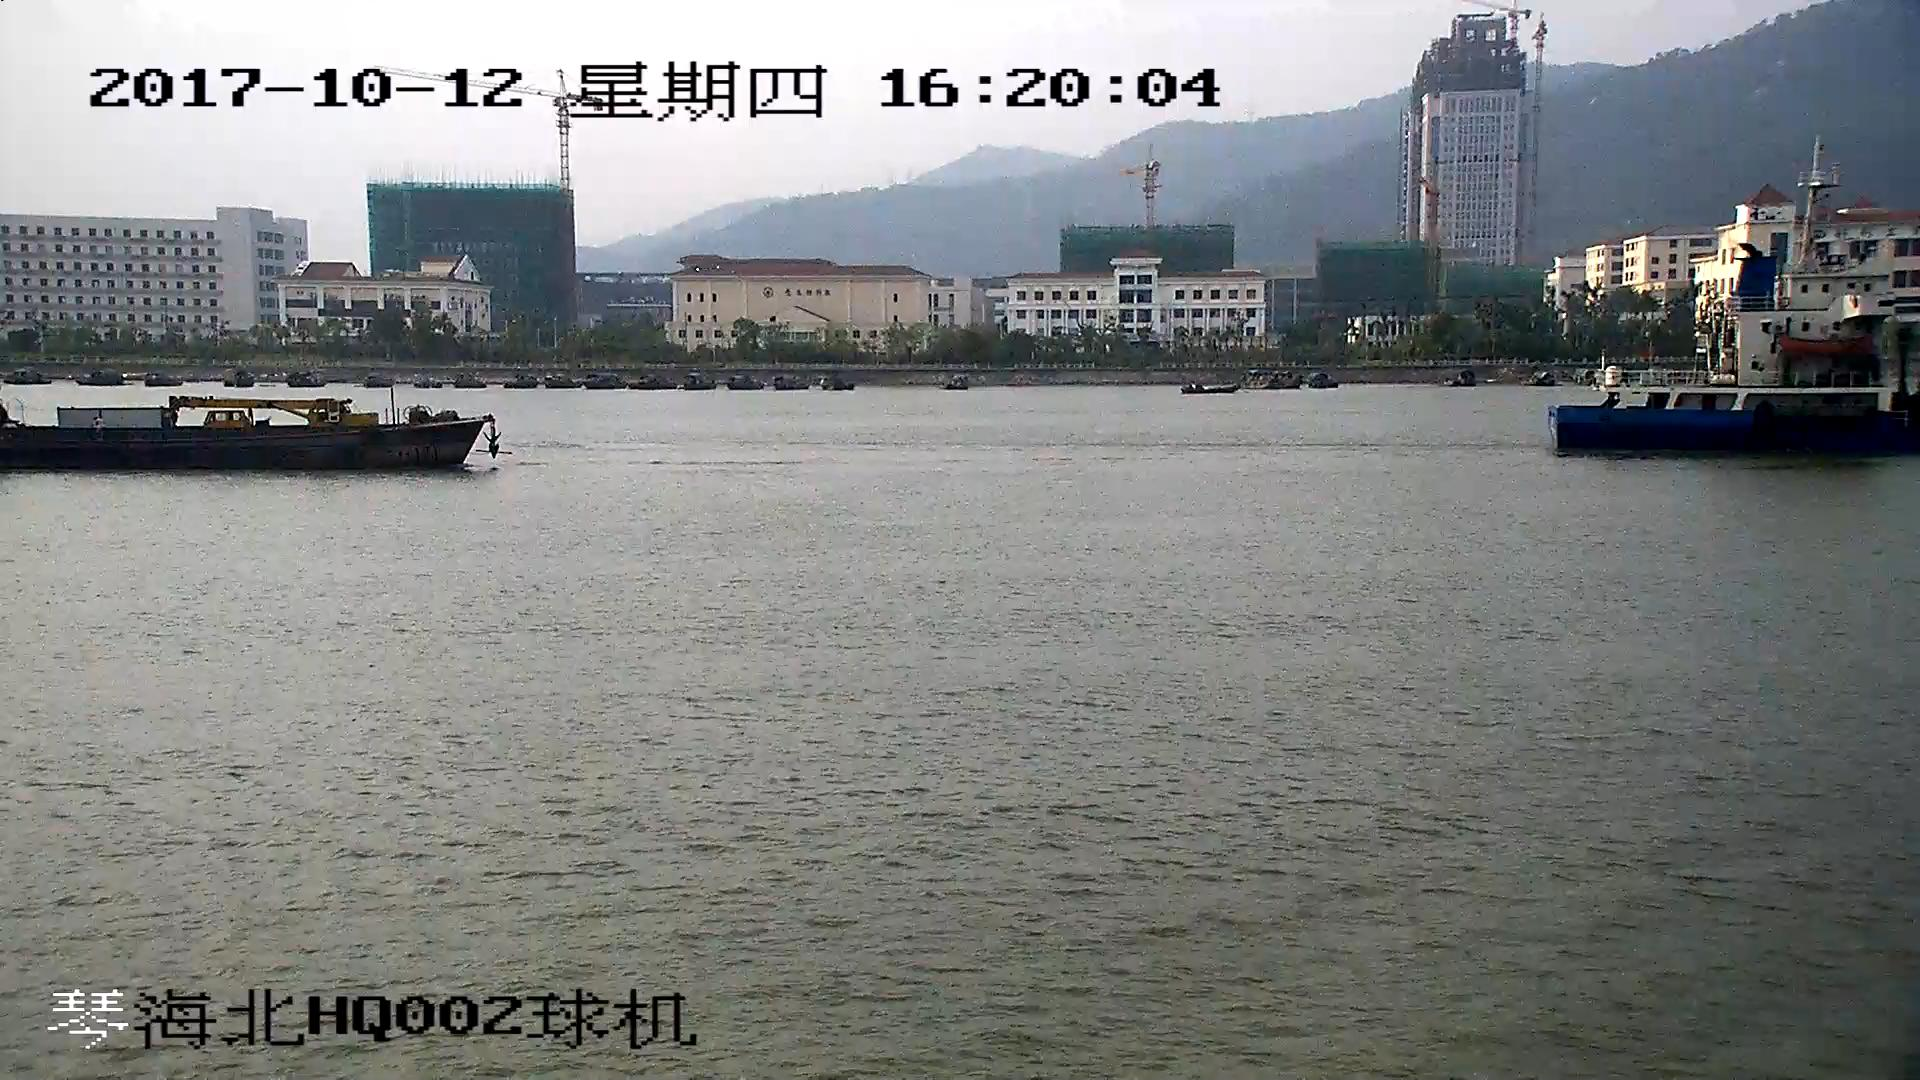bulk cargo carrier: (1551, 168, 1920, 460)
fishing boat: (1, 392, 502, 479)
